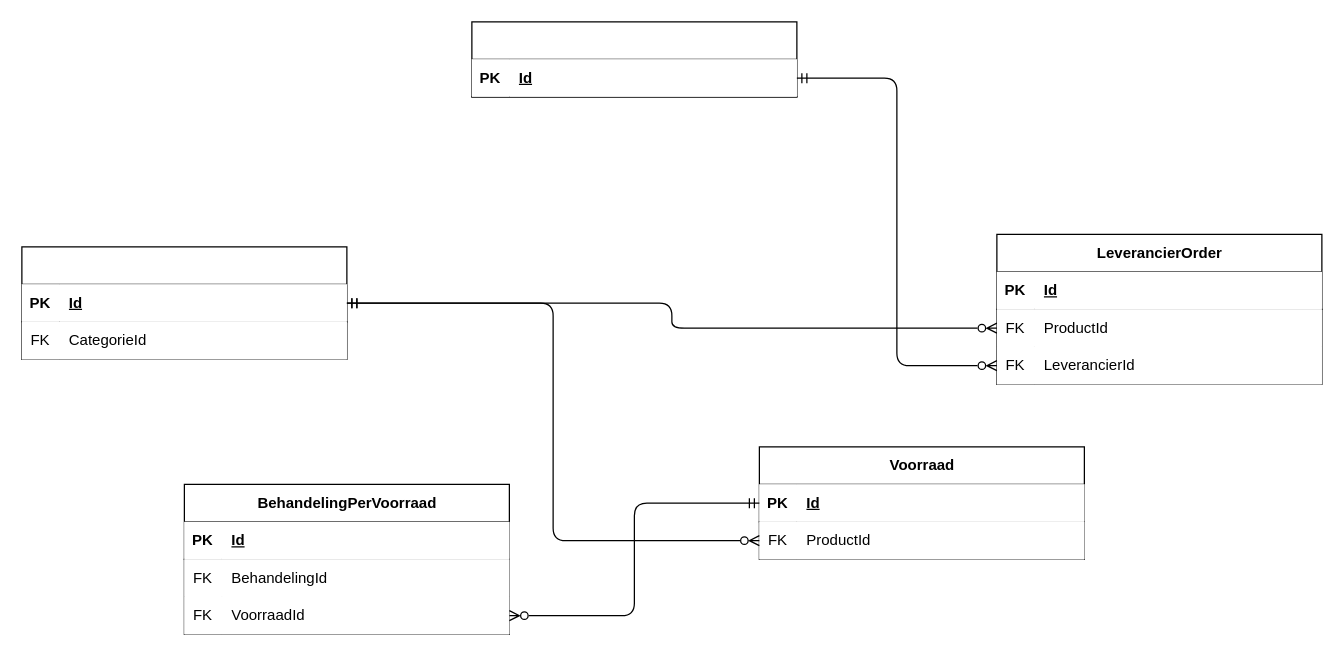
Some shapes in this 1344 by 656 pixel diagram are drawn without their labels. Each missing label, with the box of its shape:
Leverancier: (471, 21, 797, 97)
Product: (21, 246, 347, 359)
